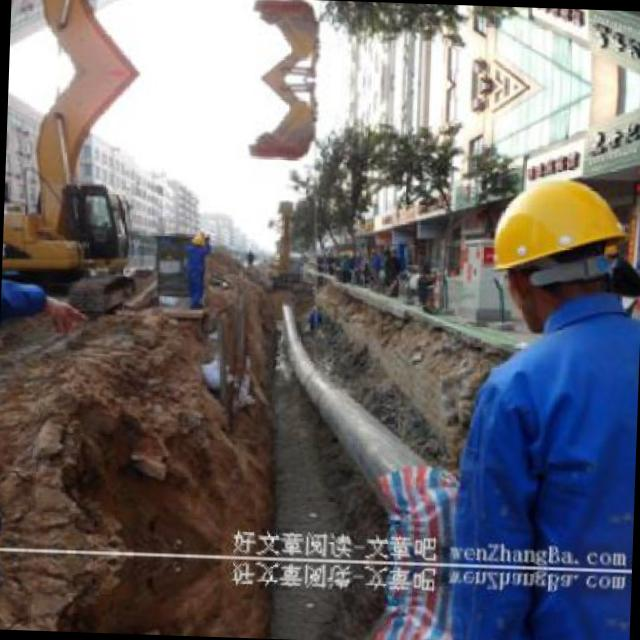helmet: (473, 155, 634, 329)
